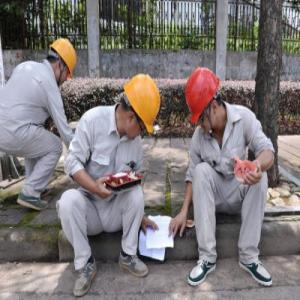red: (185, 68, 225, 136)
yellow: (116, 73, 163, 140), (48, 37, 78, 89)
